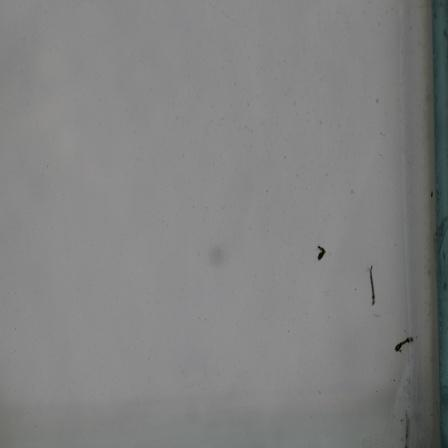Jentik-Nyamuk: (365, 263, 380, 308), (393, 332, 415, 357), (315, 241, 328, 263)
